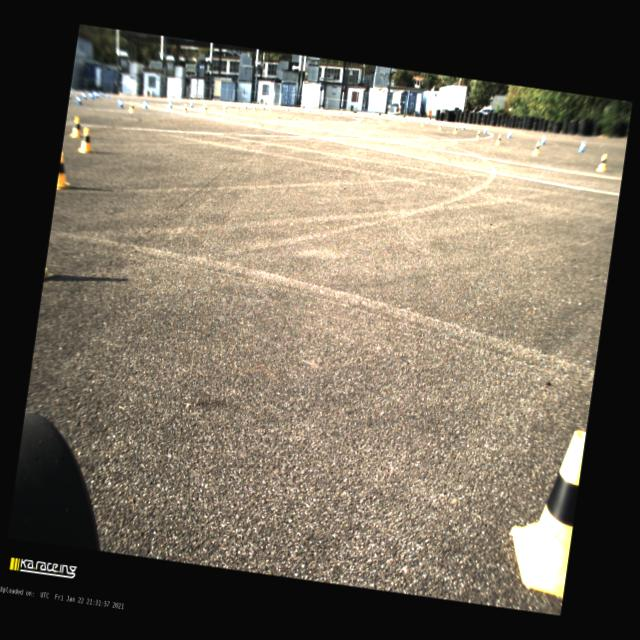blue_cone: (578, 141, 586, 154), (540, 134, 546, 146), (118, 98, 124, 109), (143, 99, 149, 108), (507, 128, 512, 138), (168, 99, 173, 108), (483, 126, 488, 134), (190, 100, 194, 108)
yellow_cone: (502, 422, 586, 600), (56, 152, 75, 192), (76, 126, 95, 154), (70, 116, 84, 139), (596, 153, 608, 172), (532, 141, 540, 156), (128, 100, 136, 114), (496, 134, 502, 146), (476, 129, 482, 141), (182, 103, 188, 113), (453, 126, 458, 135), (203, 105, 208, 114)
